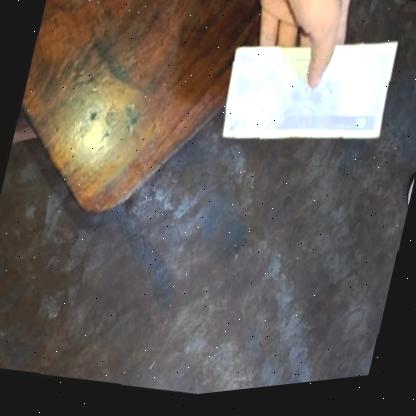ten-back-vef: (214, 17, 404, 178)
